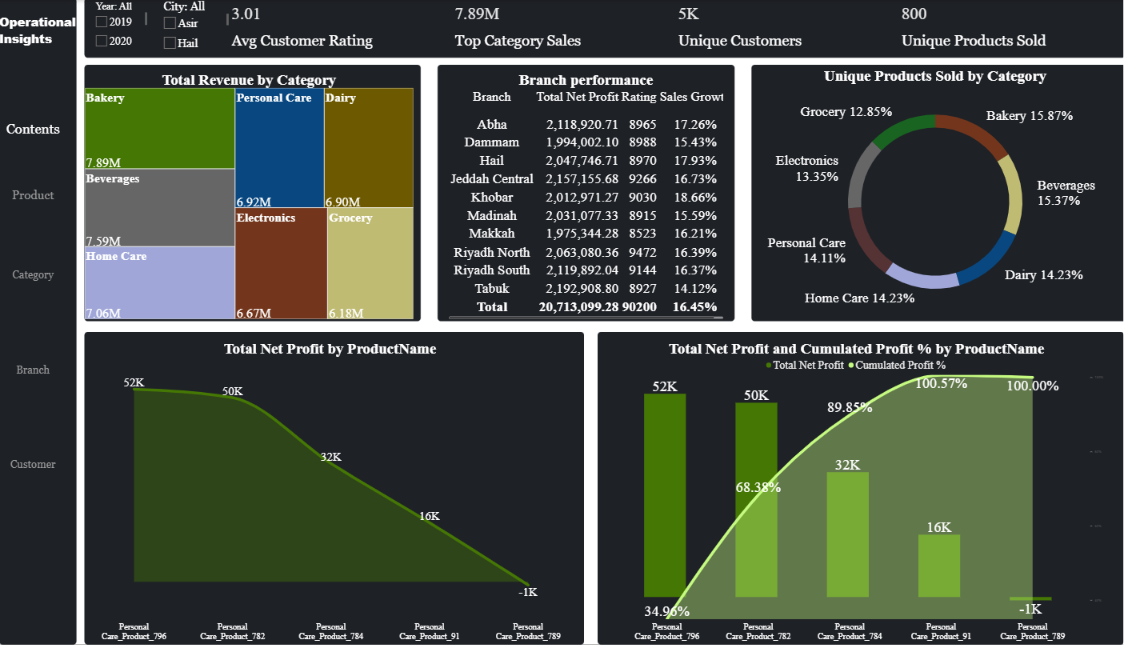

What the dashboard file says about the page in this screenshot:
{"tool":"powerbi","page":{"name":"Operational Insights","canvas":[4000,2300],"ordinal":1},"visuals":[{"type":"slicer","fields":{"Values":["AlOthaim_Customers.City"]},"box":[576,0,240,192],"z":0},{"type":"treemap","fields":{"Group":["AlOthaim_Products.Category"],"Values":["All_Measure.Total Revenue"]},"box":[288,240,1200,912],"z":9001},{"type":"lineChart","fields":{"Category":["AlOthaim_Products.ProductName"],"Y":["All_Measure.Total Net Profit"]},"box":[288,1196,1776,1104],"z":9002},{"type":"lineStackedColumnComboChart","fields":{"Category":["AlOthaim_Products.ProductName"],"Y":["All_Measure.Total Net Profit"],"Y2":["All_Measure.Cumulated Profit %"]},"box":[2112,1196,1872,1104],"z":9003},{"type":"donutChart","fields":{"Category":["AlOthaim_Products.Category"],"Y":["All_Measure.Unique Products Sold"]},"box":[2688,224,1280,928],"z":9004},{"type":"tableEx","title":"Branch performance","fields":{"Values":["AlOthaim_Sales_Ratings.Branch","All_Measure.Total Net Profit","Sum(AlOthaim_Sales_Ratings.Rating)","All_Measure.Sales Growth %"]},"box":[1584,240,1008,912],"z":9005},{"type":"cardVisual","fields":{"Data":["All_Measure.Avg Customer Rating","All_Measure.Top Category Sales","All_Measure.Unique Customers","All_Measure.Unique Products Sold"]},"box":[816,0,3168,192],"z":9006},{"type":"slicer","fields":{"Values":["Dim_Calendar.Year"]},"box":[336,0,192,192],"z":9007},{"type":"textbox","box":[0,48,288,384],"z":9008},{"type":"textbox","box":[0,432,240,96],"z":9009,"group":"g1"},{"type":"textbox","box":[0,672,240,144],"z":9010,"group":"g1"},{"type":"textbox","box":[0,960,240,96],"z":9011,"group":"g1"},{"type":"textbox","box":[0,1296,240,192],"z":9012,"group":"g1"},{"type":"textbox","box":[0,1632,240,240],"z":9013,"group":"g1"},{"type":"group","id":"g1","title":"Group 1","box":[0,432,240,1440],"z":9014}]}

Visuals, with their boxes in screenshot pixels (x1, y1, x2, y2), scaled from the page's 4000x2300 canvas onto the 1124x645 screenshot:
slicer - AlOthaim_Customers.City: pyautogui.locateOnScreen(162, 0, 229, 54)
treemap - AlOthaim_Products.Category x All_Measure.Total Revenue: pyautogui.locateOnScreen(81, 67, 418, 323)
lineChart - AlOthaim_Products.ProductName x All_Measure.Total Net Profit: pyautogui.locateOnScreen(81, 335, 580, 644)
lineStackedColumnComboChart - AlOthaim_Products.ProductName x All_Measure.Total Net Profit: pyautogui.locateOnScreen(593, 335, 1120, 644)
donutChart - AlOthaim_Products.Category x All_Measure.Unique Products Sold: pyautogui.locateOnScreen(755, 63, 1115, 323)
"Branch performance" tableEx: pyautogui.locateOnScreen(445, 67, 728, 323)
cardVisual - All_Measure.Avg Customer Rating x All_Measure.Top Category Sales: pyautogui.locateOnScreen(229, 0, 1120, 54)
slicer - Dim_Calendar.Year: pyautogui.locateOnScreen(94, 0, 148, 54)
textbox: pyautogui.locateOnScreen(0, 13, 81, 121)
textbox: pyautogui.locateOnScreen(0, 121, 67, 148)
textbox: pyautogui.locateOnScreen(0, 188, 67, 229)
textbox: pyautogui.locateOnScreen(0, 269, 67, 296)
textbox: pyautogui.locateOnScreen(0, 363, 67, 417)
textbox: pyautogui.locateOnScreen(0, 458, 67, 525)
"Group 1" group: pyautogui.locateOnScreen(0, 121, 67, 525)
